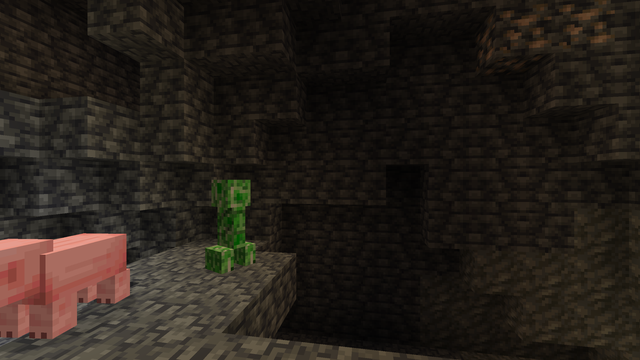cochons: (28, 231, 132, 342)
creepers: (207, 175, 252, 271)
